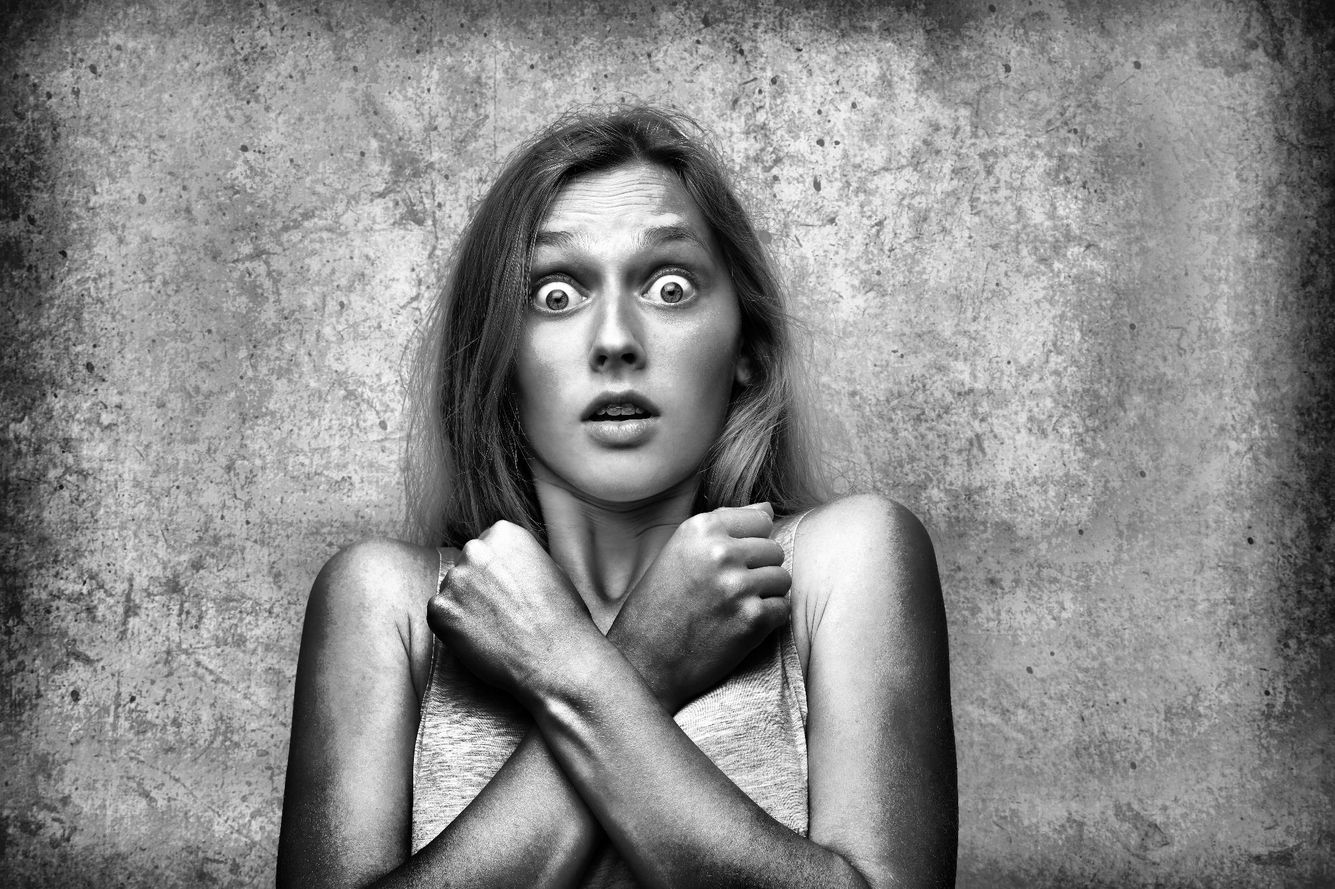surprised: (487, 177, 766, 532)
